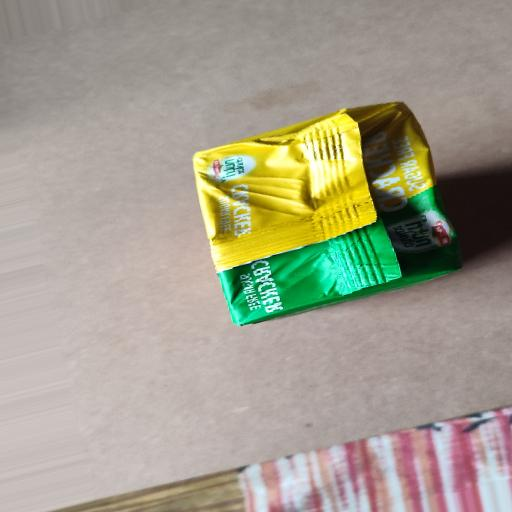Britannia Nutri-choice: (186, 87, 471, 335)
